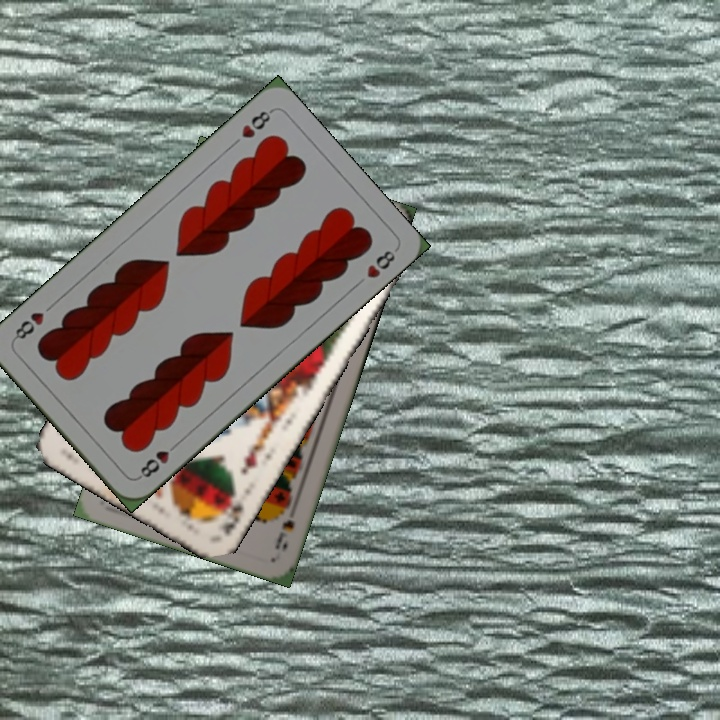H8: (134, 437, 182, 482), (237, 106, 275, 141)
S9: (271, 516, 297, 555)
SK: (217, 483, 247, 540)
